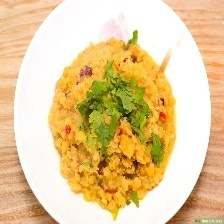sabzi: (48, 42, 176, 209)
